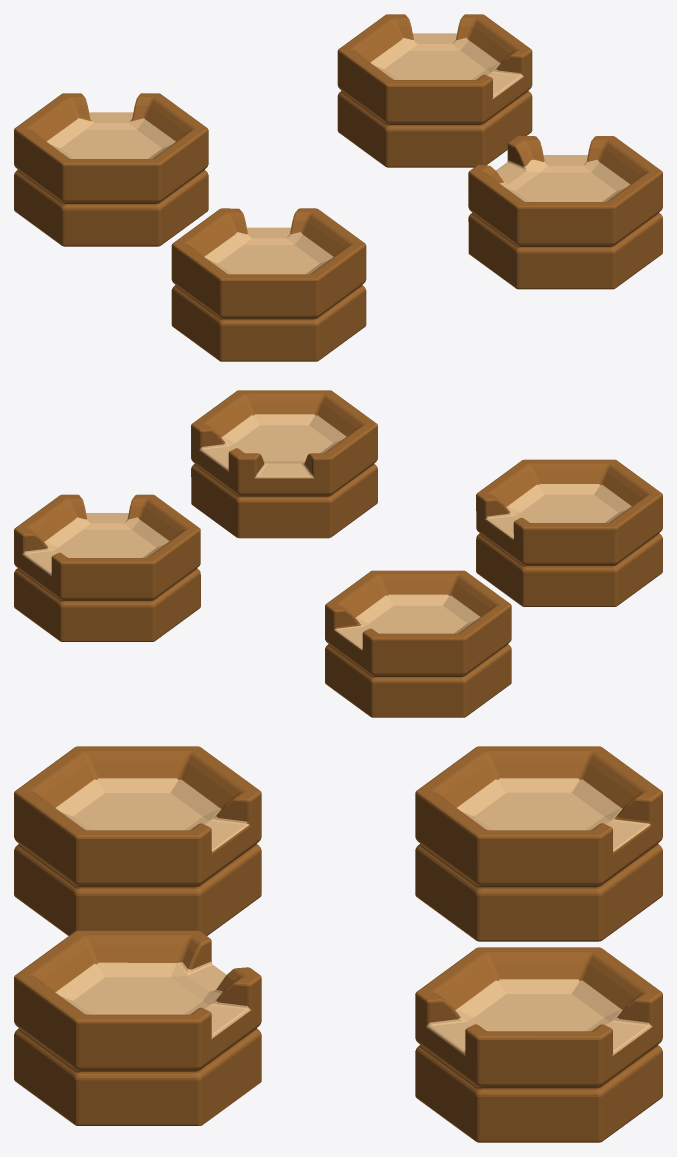
The model's file is my_road_13.fbx.
3 renders of one model, top to bottom at view 1: azimuth 30°, elevation 25°; view 2: azimuth 150°, elevation 25°; view 3: azimuth 270°, elevation 25°, orthographic. The views are drawn at different scales.
Parts seen in each view (by area): view 1: Circle.002, Circle.004, Circle.005, Circle.003; view 2: Circle.003, Circle.002, Circle.004, Circle.005; view 3: Circle.005, Circle.004, Circle.003, Circle.002.
Boxes of the visible parts, left/top/right/bottom form: Circle.002: left=171, top=208, right=366, bottom=361; Circle.004: left=14, top=93, right=208, bottom=246; Circle.005: left=337, top=14, right=532, bottom=167; Circle.003: left=468, top=136, right=662, bottom=289; Circle.003: left=191, top=390, right=377, bottom=538; Circle.002: left=476, top=459, right=662, bottom=606; Circle.004: left=325, top=570, right=511, bottom=717; Circle.005: left=14, top=494, right=200, bottom=641; Circle.005: left=415, top=947, right=662, bottom=1142; Circle.004: left=415, top=746, right=662, bottom=941; Circle.003: left=14, top=930, right=261, bottom=1125; Circle.002: left=14, top=746, right=261, bottom=935.
Size of the model in its own units: 641 by 109 by 601.
